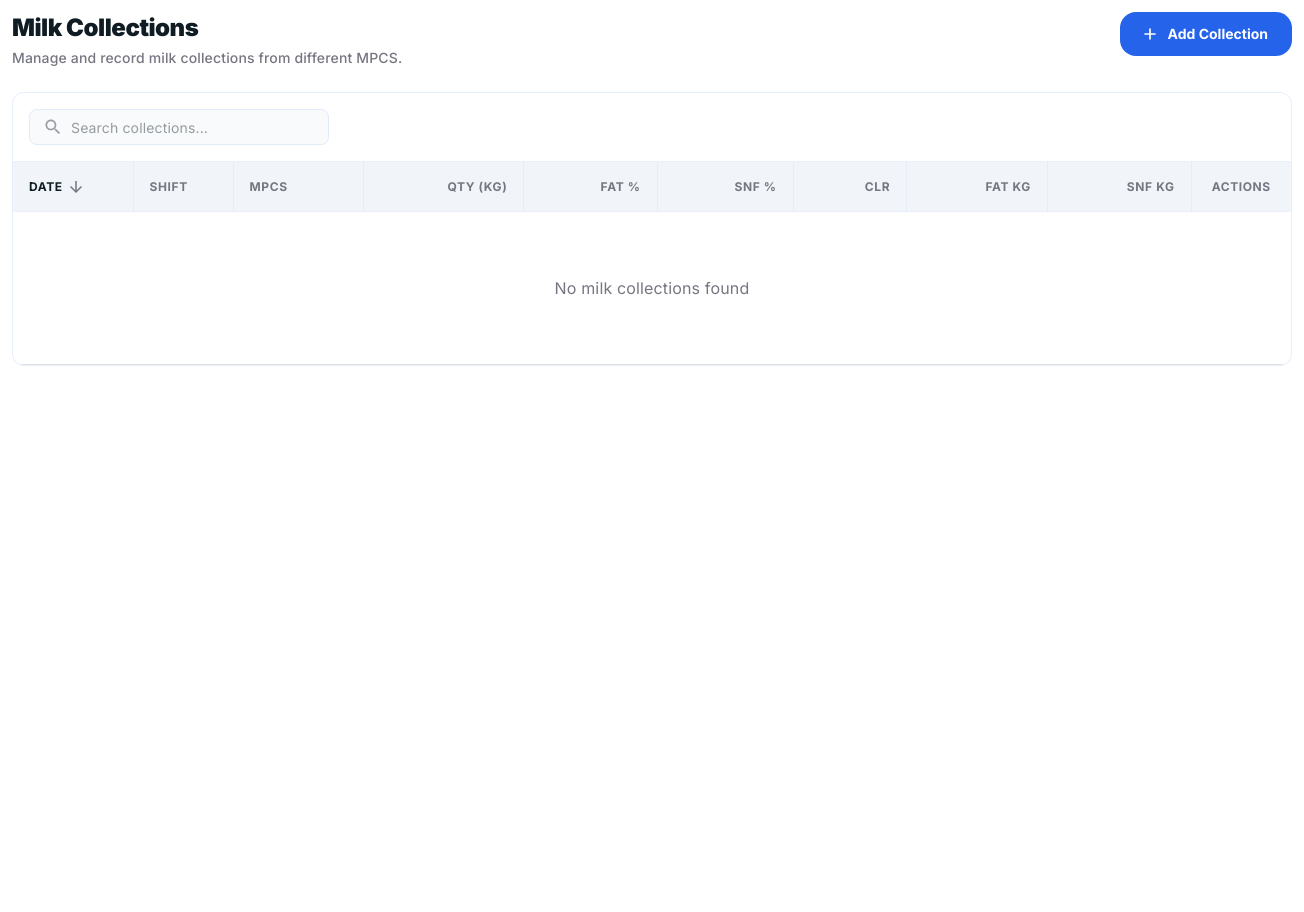
Test: MilkCollectionsPage › renders the form and the table
Note: Open form
Click the button "Add Collection" at (1206, 34), box [1120,12,1292,56]
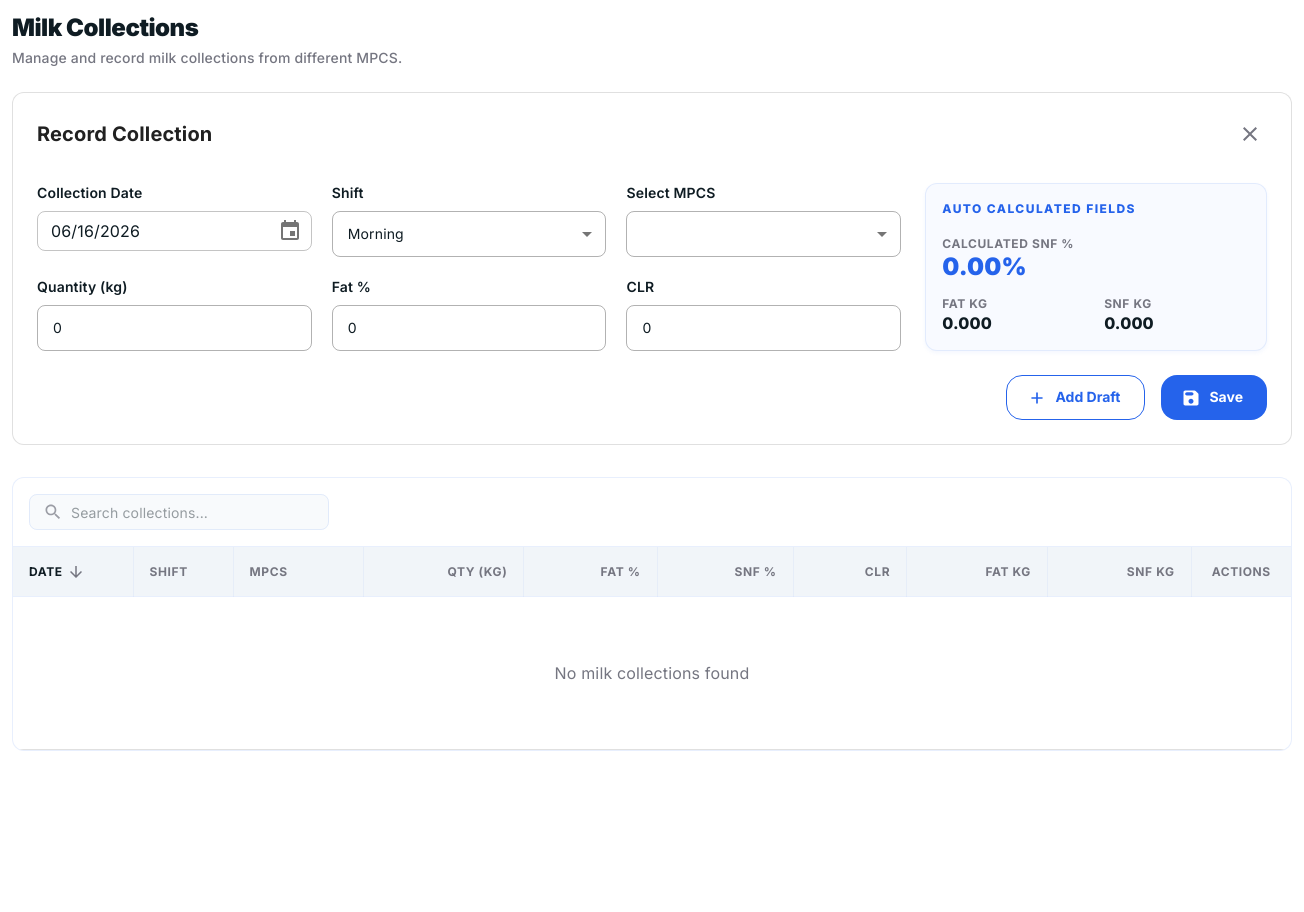
expect the text "No milk collections found" is shown: met, box [555,663,749,683]
expect the heading "Record Collection" is shown: met, box [37,118,212,150]
